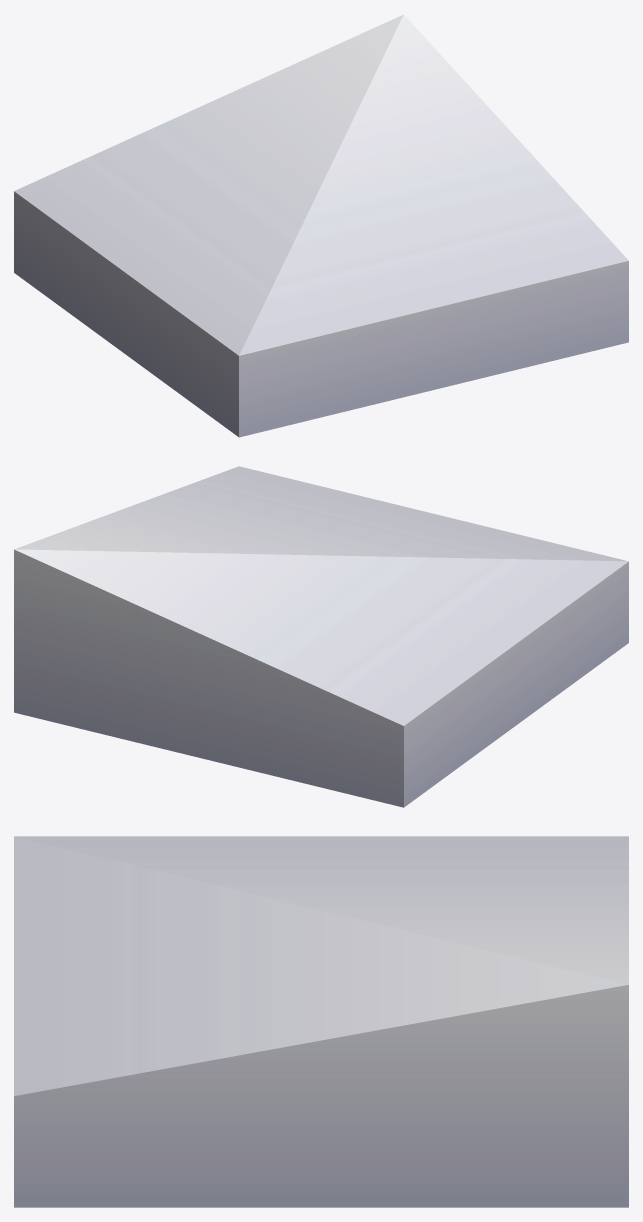
Rendered from kenney-tower-defense-snow-tile-corner-outer.glb.
3 views of the same model, one above another, from view 1: azimuth 30°, elevation 25°; view 2: azimuth 150°, elevation 25°; view 3: azimuth 270°, elevation 25° (orthographic). The views are drawn at different scales.
Visible parts, largest first — view 1: snow-tile-corner-outer; view 2: snow-tile-corner-outer; view 3: snow-tile-corner-outer.
Boxes of the visible parts, box(x1,y1,x2,y2) form: snow-tile-corner-outer: box(14, 14, 628, 437); snow-tile-corner-outer: box(14, 466, 628, 807); snow-tile-corner-outer: box(14, 836, 628, 1207).
Size of the model in its own units: 1 by 0.3999 by 1.
Materials: 1 (1 with a texture image).
